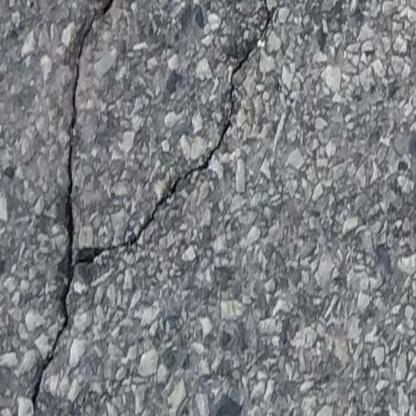Cracks: (18, 0, 289, 416)
